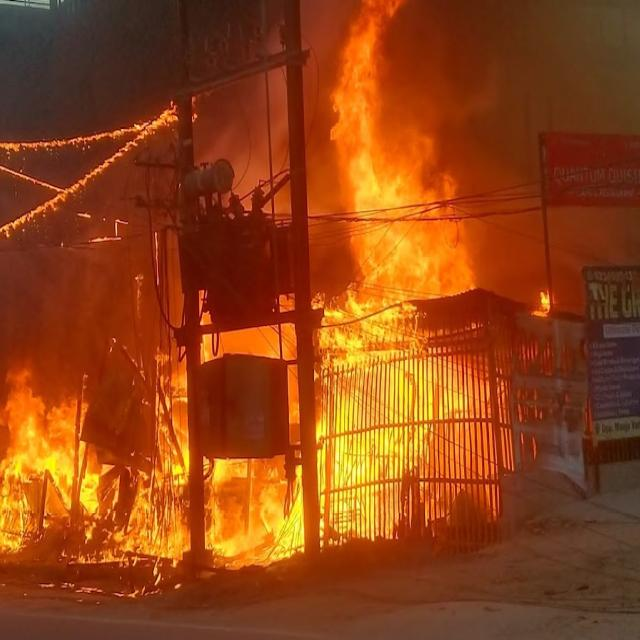fire: (314, 296, 510, 550), (331, 0, 454, 211), (0, 106, 178, 242), (0, 368, 99, 555), (202, 459, 305, 567), (349, 211, 474, 293), (100, 459, 191, 565), (0, 103, 178, 151)
